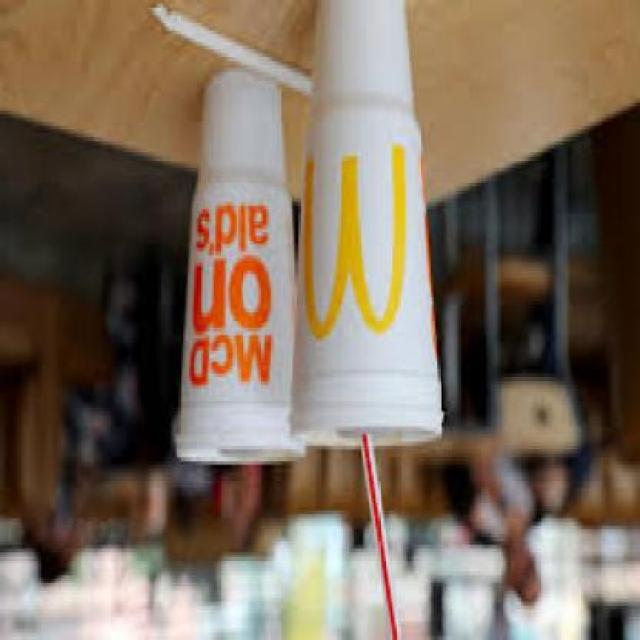PAPER: (290, 4, 445, 427), (180, 69, 302, 442)
